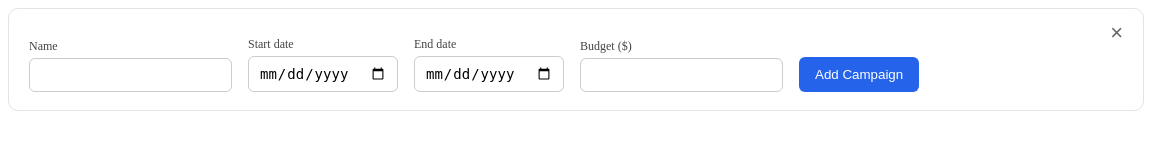
Scenario: AddCampaign Component › shows error when fields are empty
Click the button "Add Campaign" at (859, 74), box [799,57,919,92]
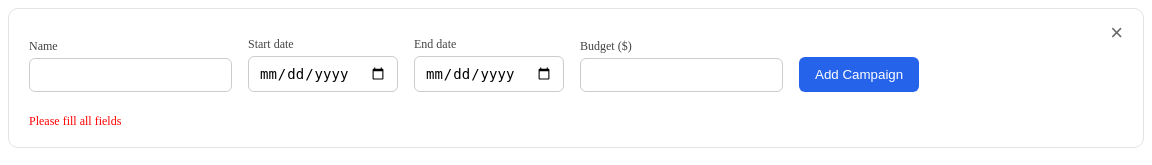
Check: the text "Please fill all fields" is shown, box [29,114,121,128]
